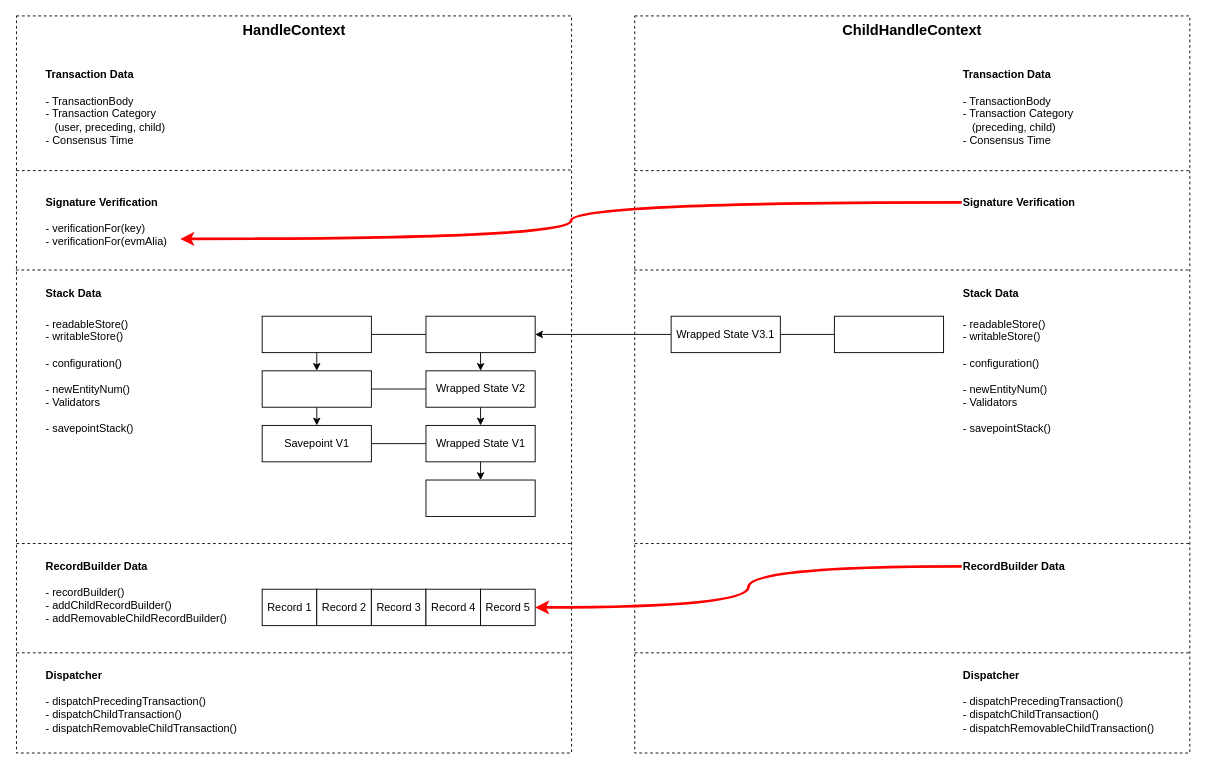
Image size: 1208x769. Some labels were removed from this diagram. Here are the shapes that lost their labels. From the top down, the centre of each, then its label:
(316,334): Savepoint V3
(480,334): Wrapped State V3
(888,334): Savepoint V3.1
(316,388): Savepoint V2
(480,497): Root HederaState
